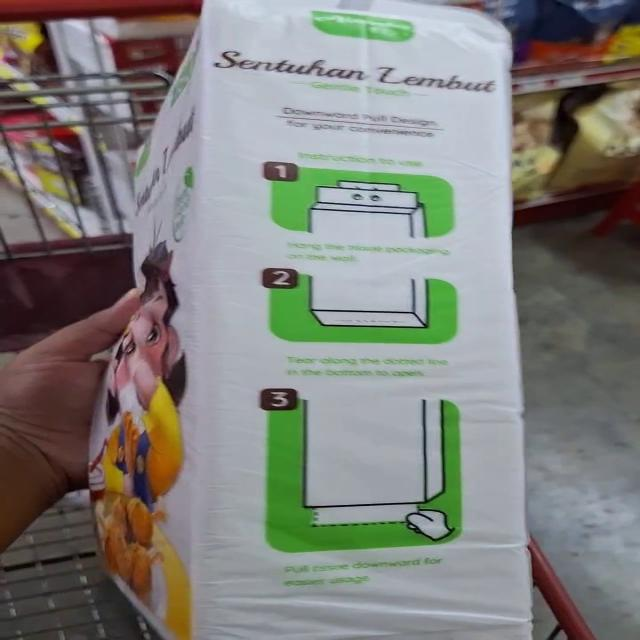Tisu: (68, 256, 588, 640), (116, 8, 560, 308)
